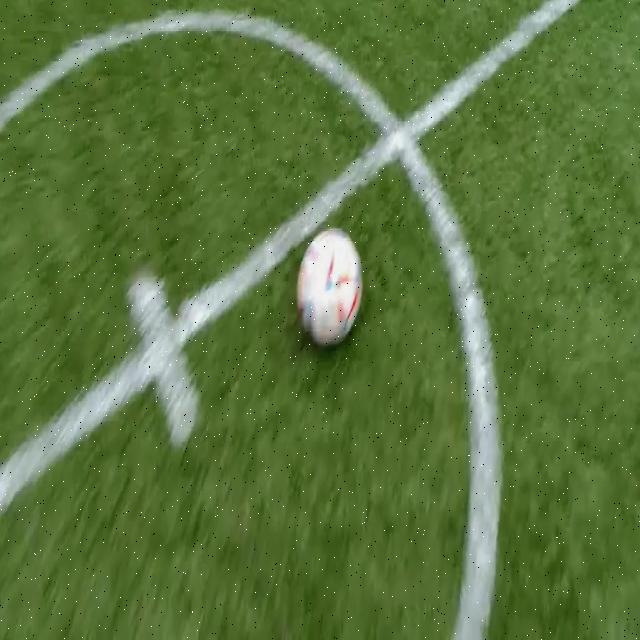ball: (296, 229, 362, 345)
